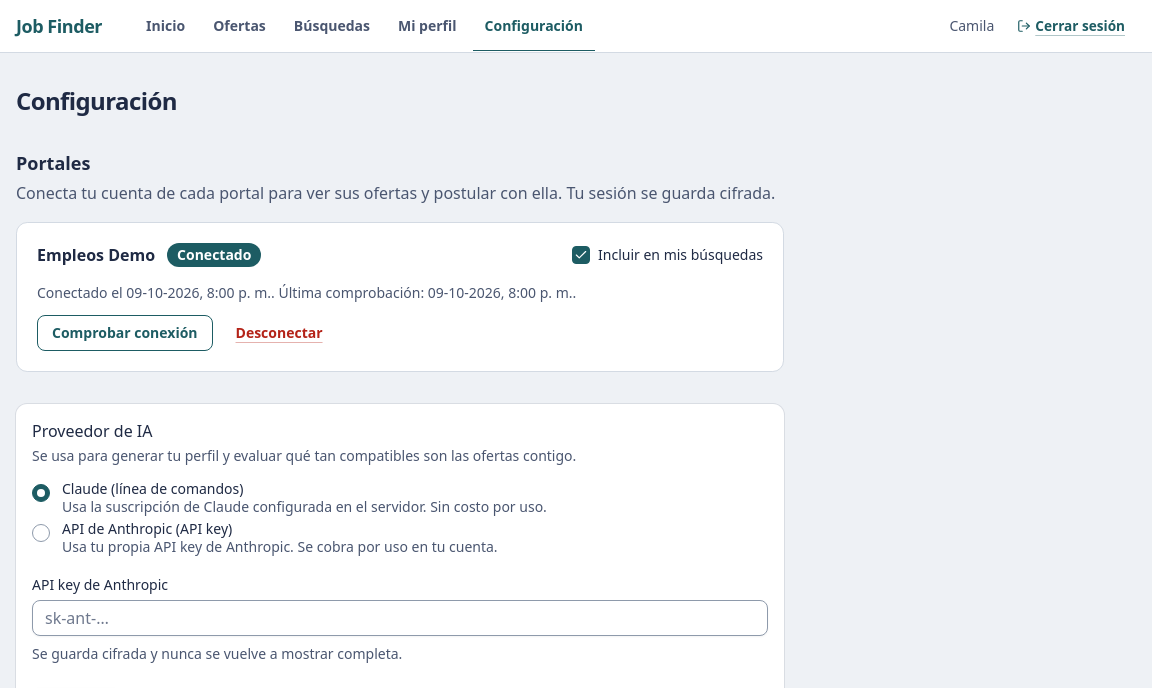
Test: Configuración: portales › desconectar pide confirmación y borra la sesión
The image size is (1152, 688).
What coordinates should you click on to do the following:
click the button "Desconectar"
I would click on:
 (279, 333)
Its box is top-left (220, 315), bottom-right (338, 351).
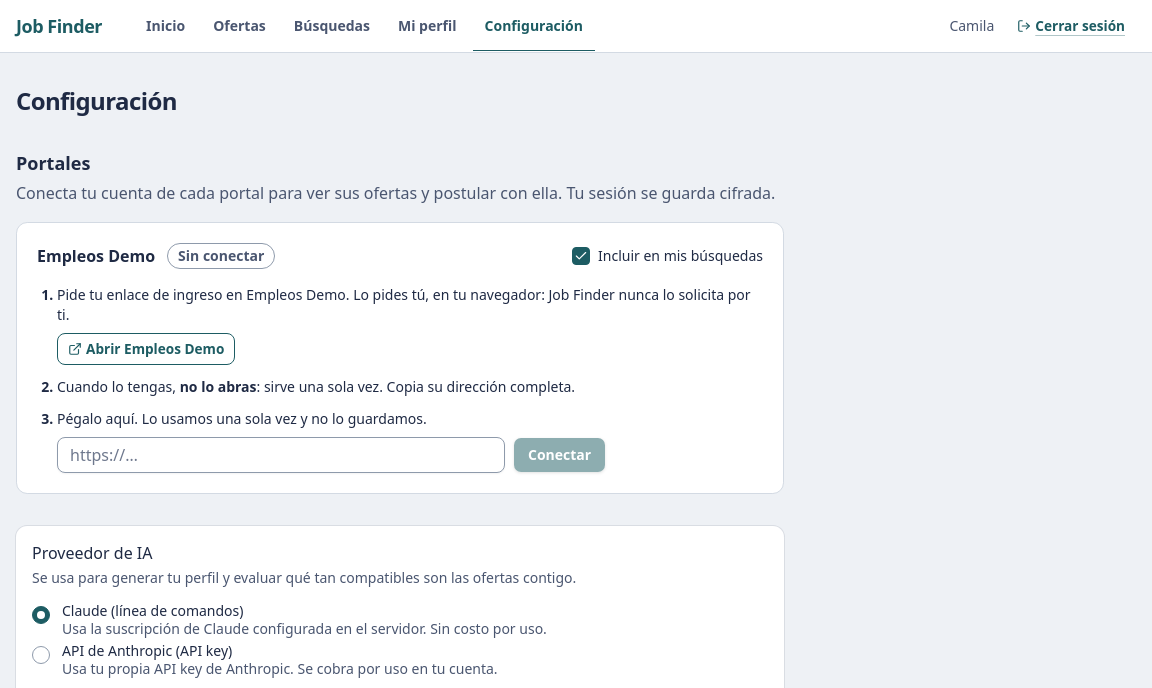
Expected: the text "Sin conectar" is shown, top-left (167, 243), bottom-right (275, 269)
